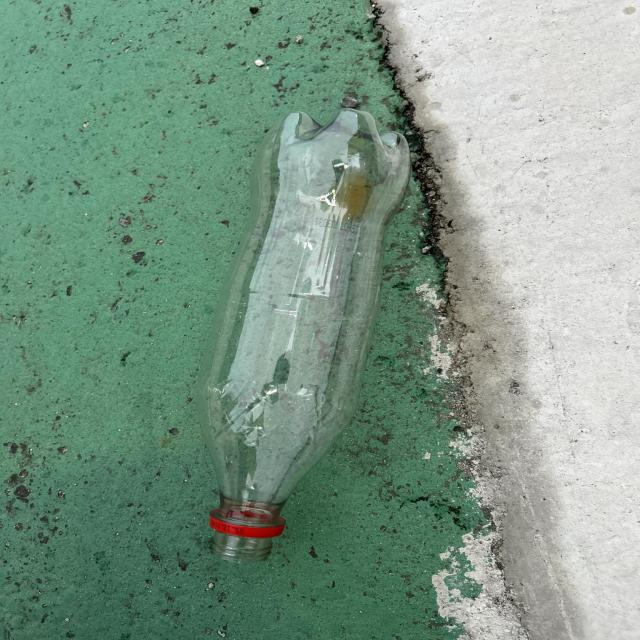empty: (196, 109, 409, 562)
